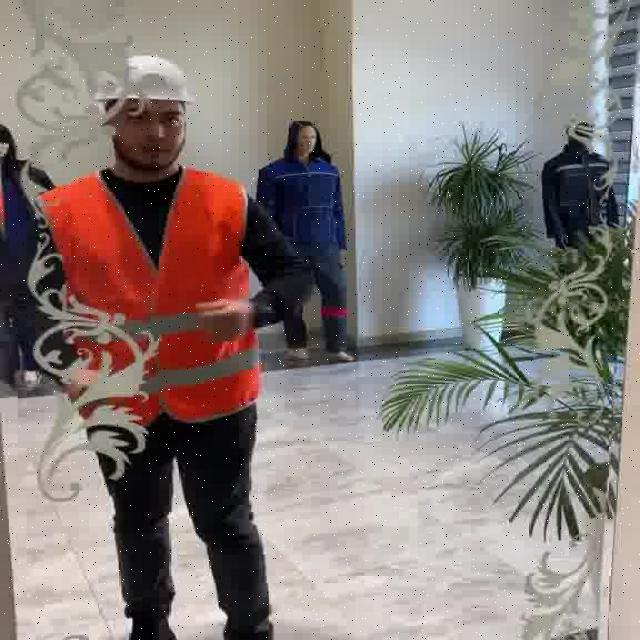Hard_hat: (93, 52, 202, 107)
Person: (15, 28, 352, 640)
Vest: (67, 165, 256, 416)
